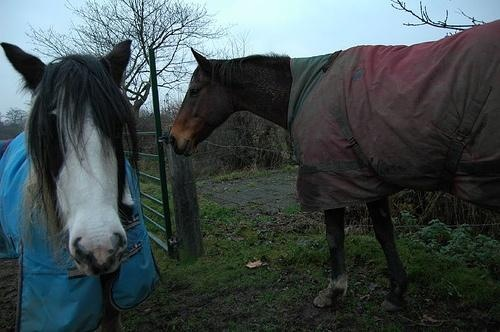horse: (165, 19, 500, 315), (4, 36, 160, 332)
